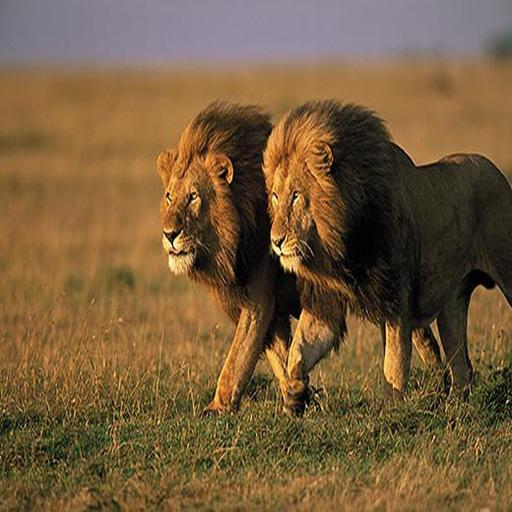Lion: (148, 97, 440, 439), (260, 89, 512, 470)
